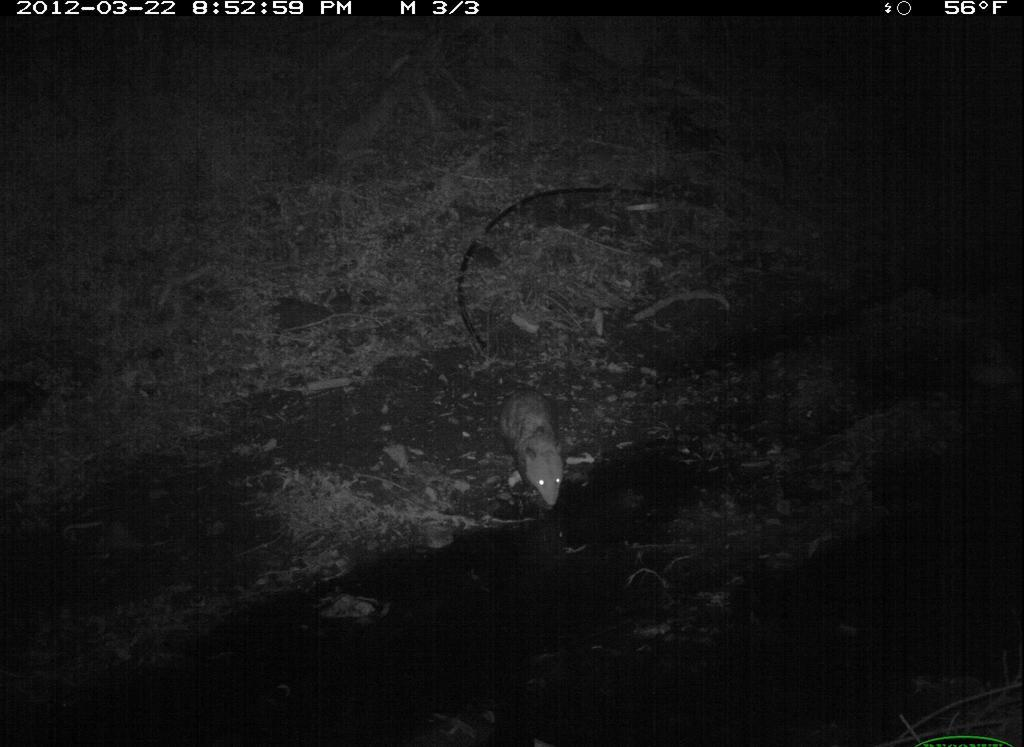opossum: (469, 345, 600, 543)
